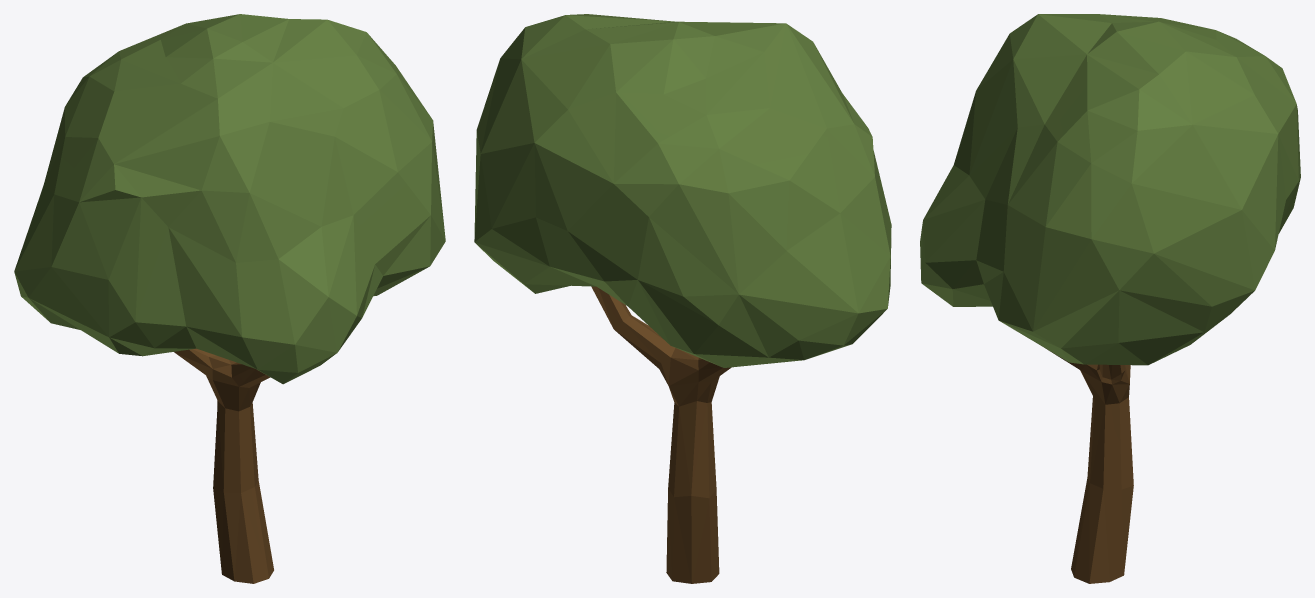
File: Tree_03 2.glb
3 renders of one model, left to right at view 1: azimuth 30°, elevation 25°; view 2: azimuth 150°, elevation 25°; view 3: azimuth 270°, elevation 25°, orthographic. The views are drawn at different scales.
Visible parts, largest first — view 1: Tree_03_LOD0; view 2: Tree_03_LOD0; view 3: Tree_03_LOD0.
Boxes of the visible parts, x1,y1,x2,y2 form: Tree_03_LOD0: (14,14,445,583); Tree_03_LOD0: (474,14,891,583); Tree_03_LOD0: (920,14,1300,583).
Size of what is drawn, in the model's own units: 3.78 by 4.95 by 3.13.
Materials: 1 (1 with a texture image).
